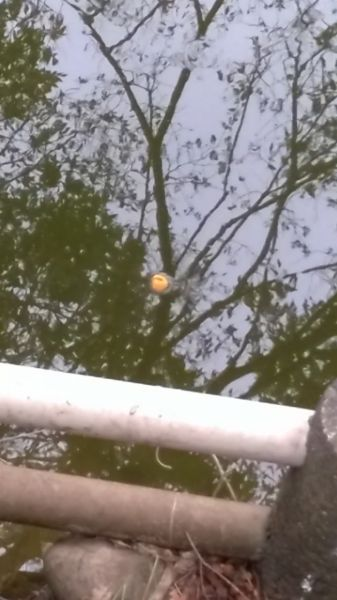eggs: (145, 269, 172, 294)
